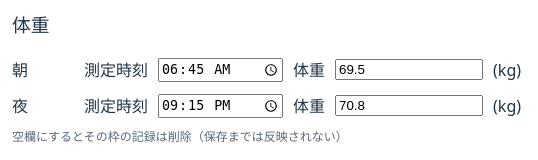
Test: WeightEditor › keeps morning and evening inputs independent and wires firstFocusRef to morning weight input
Expected: the 1st time field holds "06:45", [158,58,283,82]
Expected: the 1st field holds "69.5", [335,59,483,80]
// Start editing evening draft, then commit morning change: evening draft stays untouched.
Replace the text in the 2nd field with "71.9": (409, 106) [335,95,483,116]
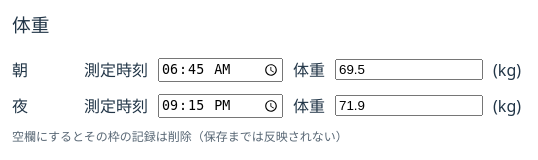
Replace the text in the 2nd time field with "22:00": (220, 106) [158,94,283,118]
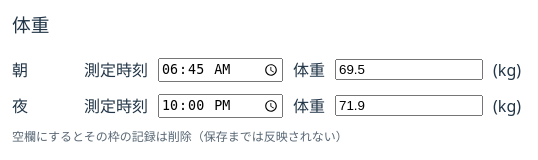
Replace the text in the 1st field with "69.0": (409, 70) [335,59,483,80]
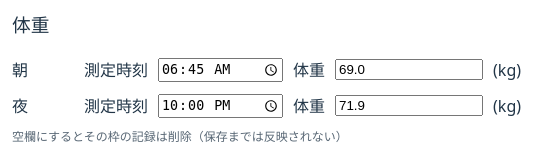
Leave the 1st field, box [335,59,483,80]
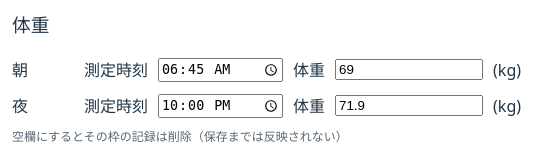
Result: the 1st field holds "69" at [335,59,483,80]
